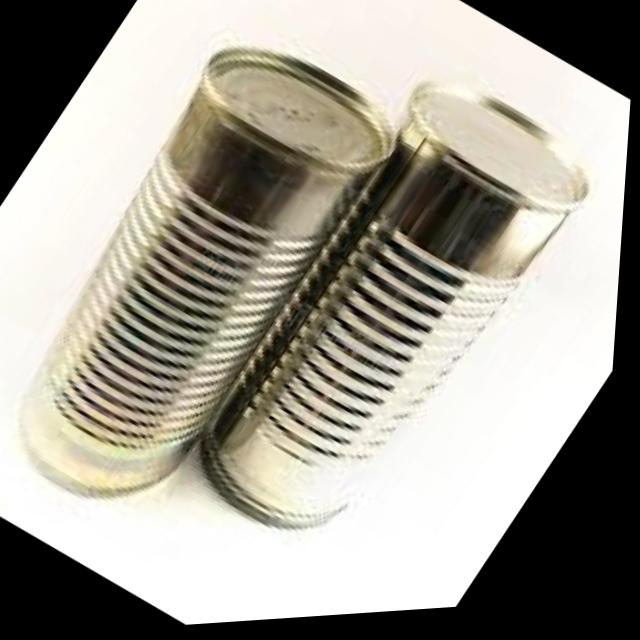metal: (0, 2, 411, 546), (133, 49, 587, 527)
